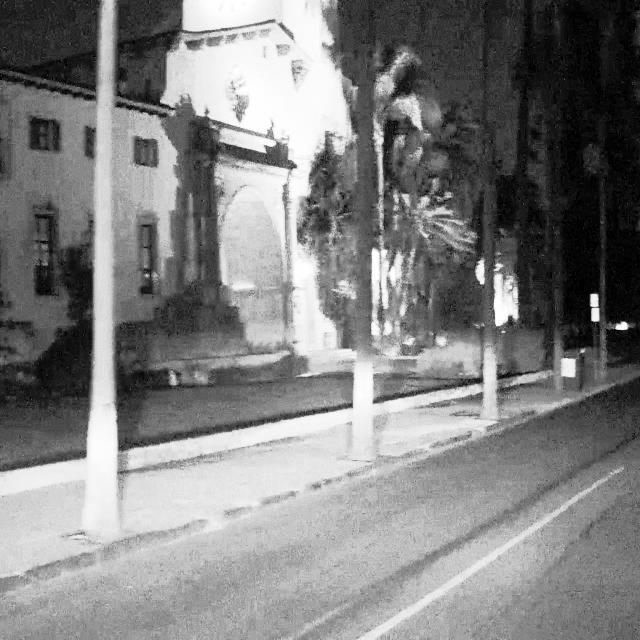Tree: (76, 0, 130, 550), (344, 0, 386, 468)
